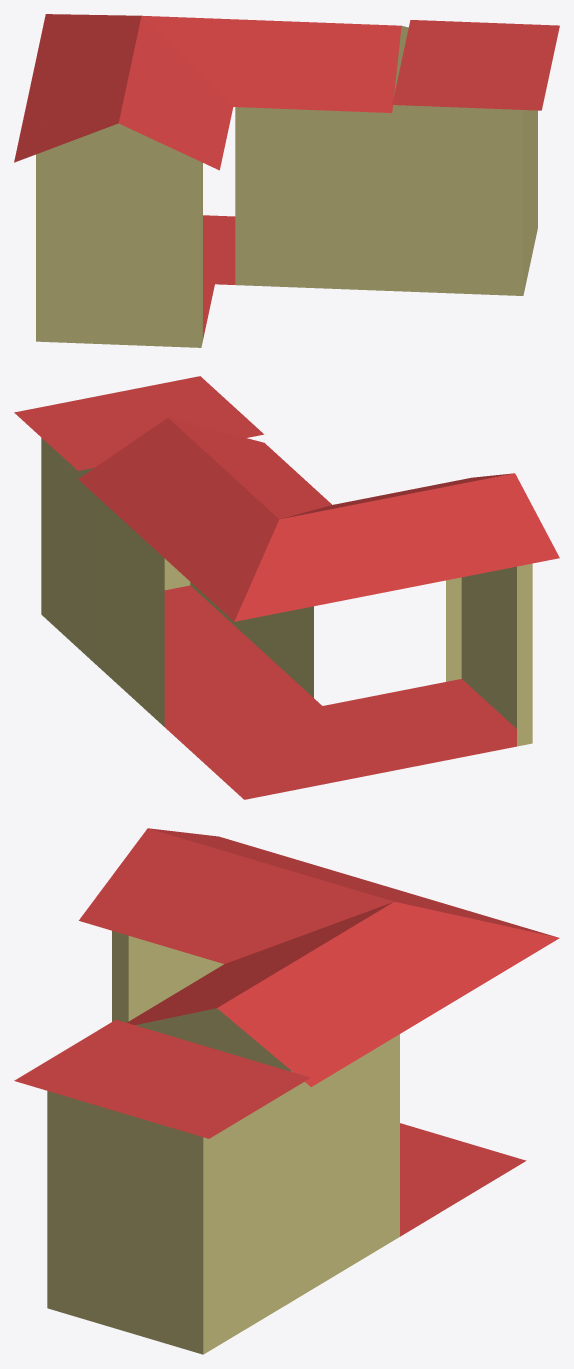
3 renders of one model, top to bottom at view 1: azimuth 30°, elevation 25°; view 2: azimuth 150°, elevation 25°; view 3: azimuth 270°, elevation 25°, orthographic. The views are drawn at different scales.
Size of the model in its own units: 15.44 by 11.42 by 6.26.
